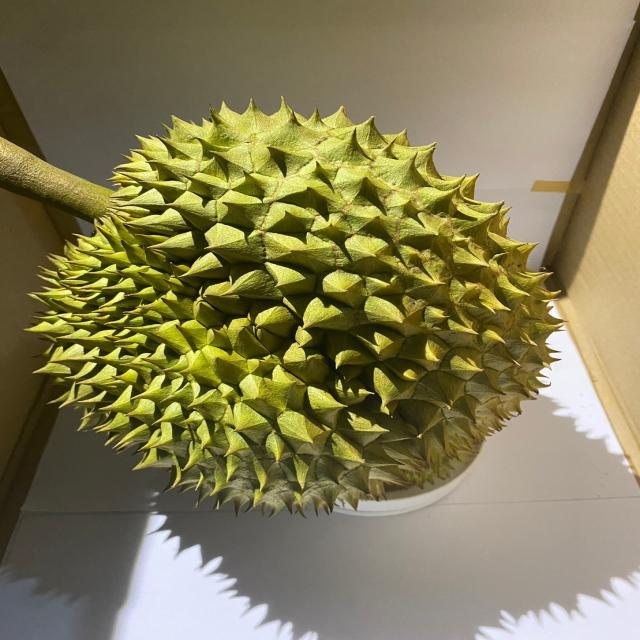immature: (30, 101, 575, 519)
